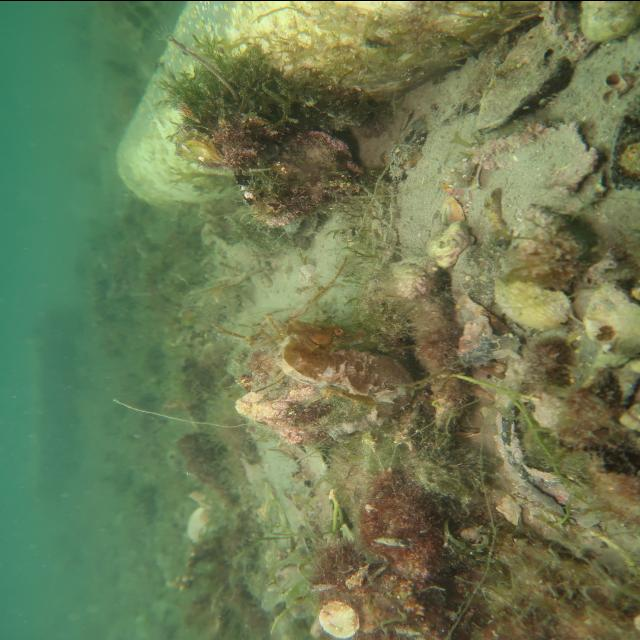Hippo: (272, 318, 378, 358)
